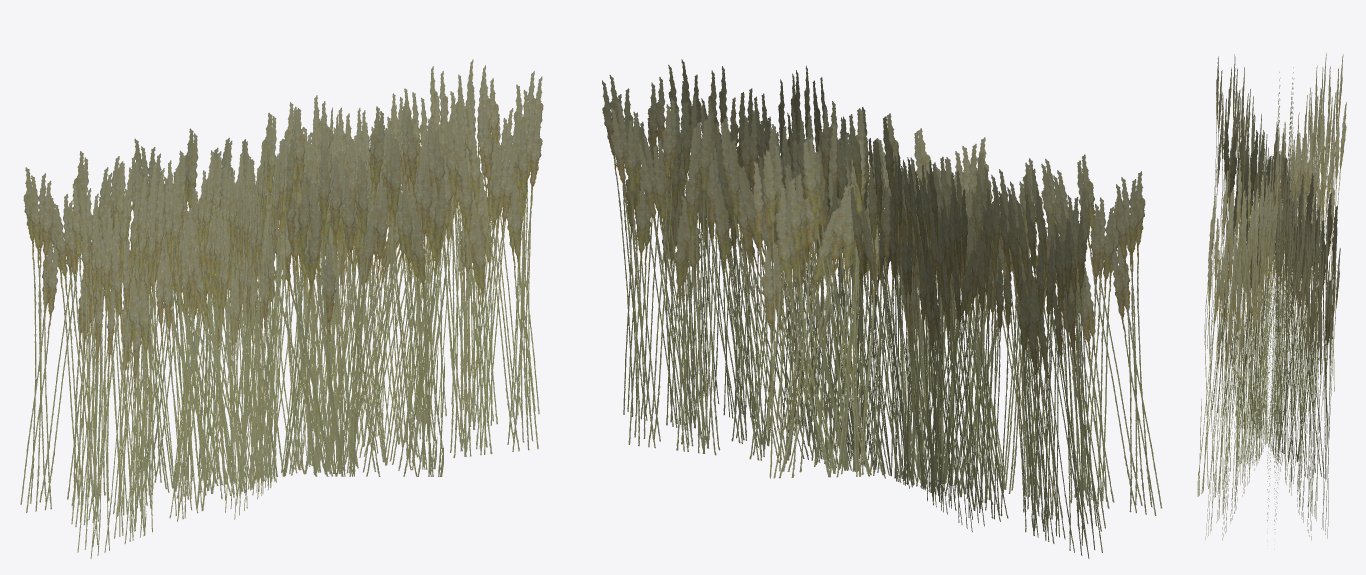
File: WaterGrass_02_v01_04.obj
The picture shows the model from 3 angles, left to right: view 1: azimuth 30°, elevation 25°; view 2: azimuth 150°, elevation 25°; view 3: azimuth 270°, elevation 25°; orthographic projection. The views are drawn at different scales.
Parts seen in each view (by area): view 1: polySurface3; view 2: polySurface3; view 3: polySurface3.
Boxes of the visible parts, bbox=[...] form: polySurface3: bbox=[20, 59, 543, 558]; polySurface3: bbox=[602, 59, 1162, 558]; polySurface3: bbox=[1197, 53, 1346, 541].
Size of the model in its own units: 38.69 by 26.54 by 11.18.
1 material, 1 textured.
